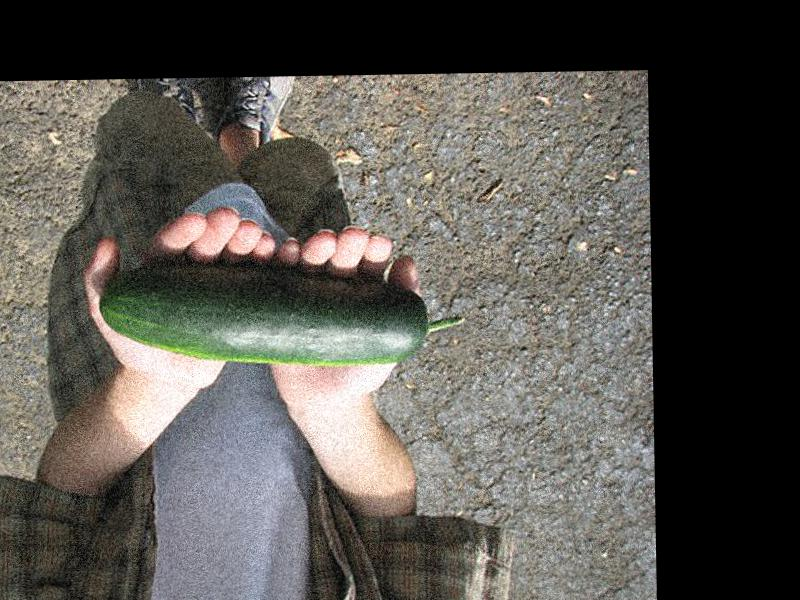Cucumber: (101, 258, 467, 368)
